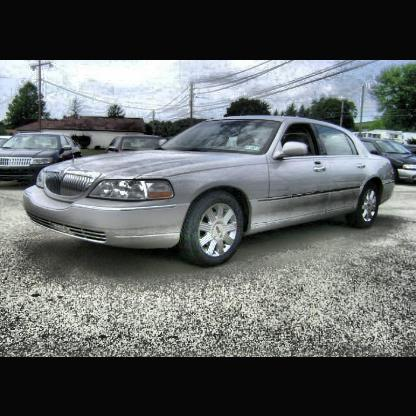Lincoln Town Car Sedan 2011: (22, 113, 398, 268)
